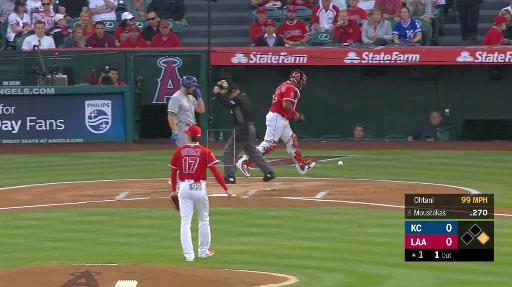pitcher: (169, 125, 234, 263)
